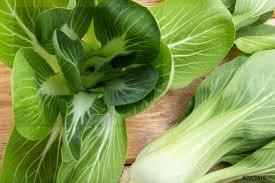Healthy-Pechay: (0, 4, 162, 174), (128, 59, 275, 183), (105, 0, 265, 61)
